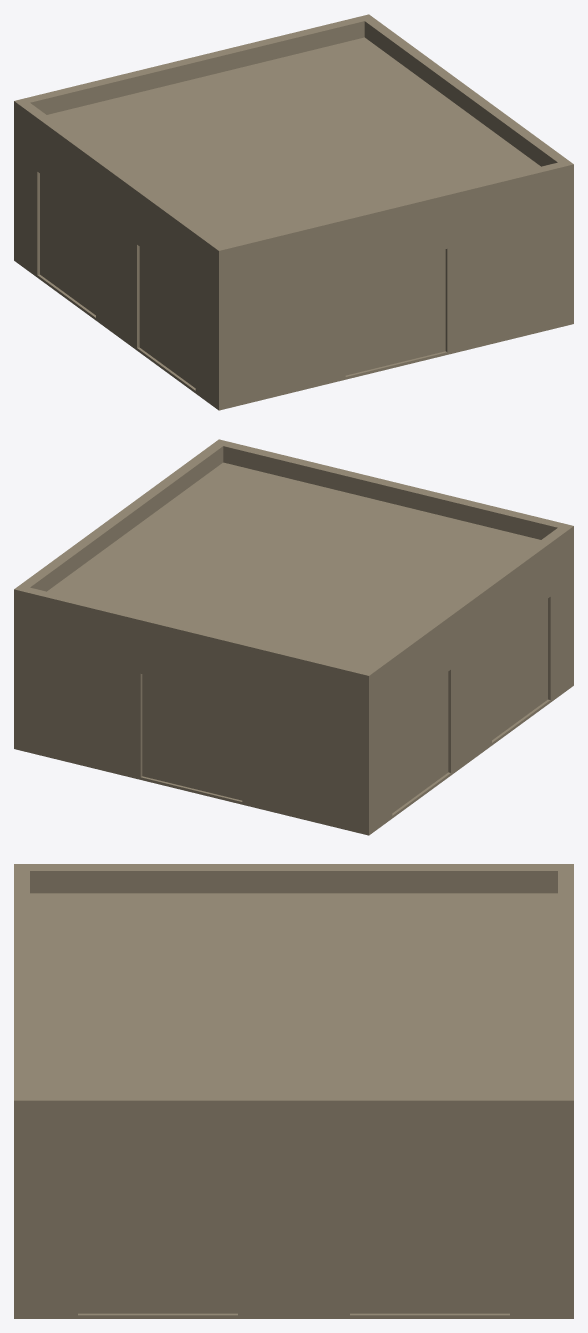
File: TaggerPoint.FBX
3 views of the same model, one above another, from view 1: azimuth 30°, elevation 25°; view 2: azimuth 150°, elevation 25°; view 3: azimuth 270°, elevation 25° (orthographic). The views are drawn at different scales.
Parts seen in each view (by area): view 1: TagerPoint00, TagerPoint01, TagerPointDoor20, TagerPointDoor21, TagerPointDoor31, TagerPointDoor33, TagerPointDoor30, TagerPointDoor32; view 2: TagerPoint00, TagerPoint01, TagerPointDoor01, TagerPointDoor00, TagerPointDoor30, TagerPointDoor32, TagerPointDoor33, TagerPointDoor31; view 3: TagerPoint01, TagerPoint00, TagerPointDoor10, TagerPointDoor13, TagerPointDoor12, TagerPointDoor11.
Part boxes in pixels (box(x1,y1,x2,y2)): TagerPoint00: box(14, 14, 573, 410); TagerPoint01: box(47, 37, 540, 244); TagerPointDoor20: box(395, 249, 445, 363); TagerPointDoor21: box(345, 261, 394, 375); TagerPointDoor31: box(139, 247, 168, 368); TagerPointDoor33: box(40, 174, 69, 295); TagerPointDoor30: box(168, 268, 195, 387); TagerPointDoor32: box(69, 195, 95, 314); TagerPoint00: box(14, 439, 573, 835); TagerPoint01: box(47, 462, 540, 669); TagerPointDoor01: box(142, 674, 192, 788); TagerPointDoor00: box(193, 686, 242, 800); TagerPointDoor30: box(518, 599, 547, 720); TagerPointDoor32: box(419, 672, 448, 793); TagerPointDoor33: box(392, 693, 419, 812); TagerPointDoor31: box(492, 620, 518, 739); TagerPoint01: box(30, 893, 557, 1093); TagerPoint00: box(14, 864, 573, 1318); TagerPointDoor10: box(430, 1174, 509, 1313); TagerPointDoor13: box(78, 1174, 157, 1313); TagerPointDoor12: box(158, 1174, 237, 1313); TagerPointDoor11: box(350, 1174, 429, 1313).
Size of the model in its own units: 700 by 301 by 700.
